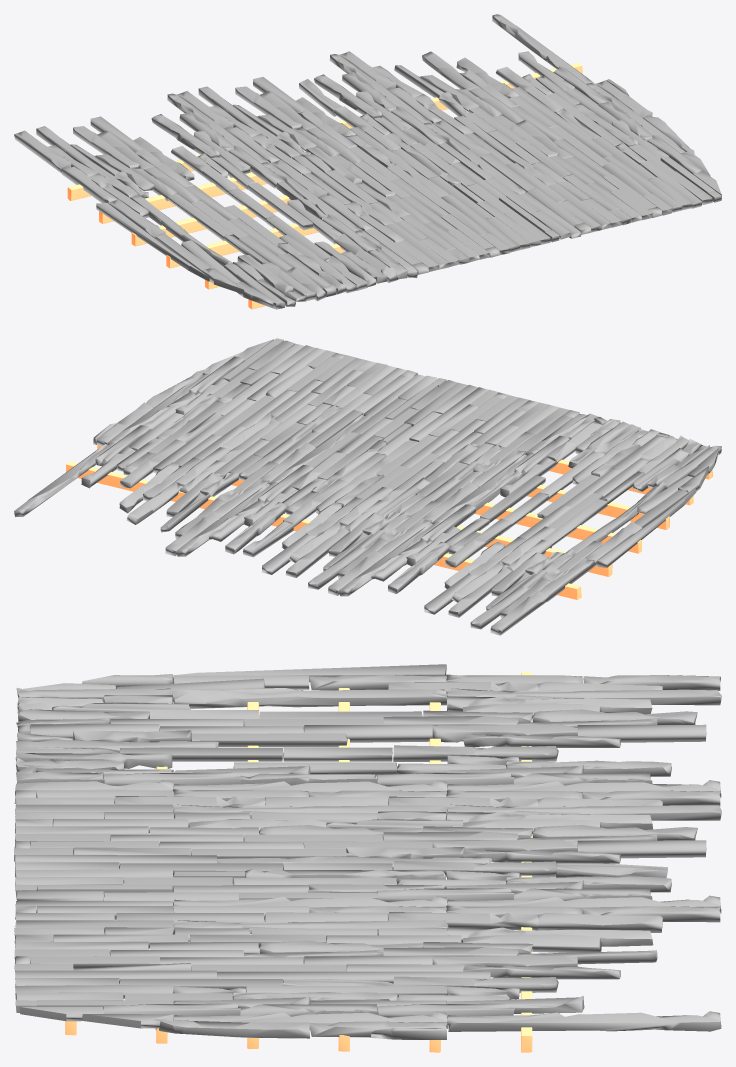
File: SM_Floor_OfficerTop.fbx
3 views of the same model, one above another, from view 1: azimuth 30°, elevation 25°; view 2: azimuth 150°, elevation 25°; view 3: azimuth 270°, elevation 25° (orthographic). The views are drawn at different scales.
Parts seen in each view (by area): view 1: SM_Floor_OfficerTop_LOD0; view 2: SM_Floor_OfficerTop_LOD0; view 3: SM_Floor_OfficerTop_LOD0.
Boxes of the visible parts, left/top/right/bottom form: SM_Floor_OfficerTop_LOD0: left=14, top=14, right=721, bottom=309; SM_Floor_OfficerTop_LOD0: left=14, top=338, right=721, bottom=635; SM_Floor_OfficerTop_LOD0: left=14, top=664, right=721, bottom=1052.
Bounding box in the file's own units: 948 × 777 × 33.92.
